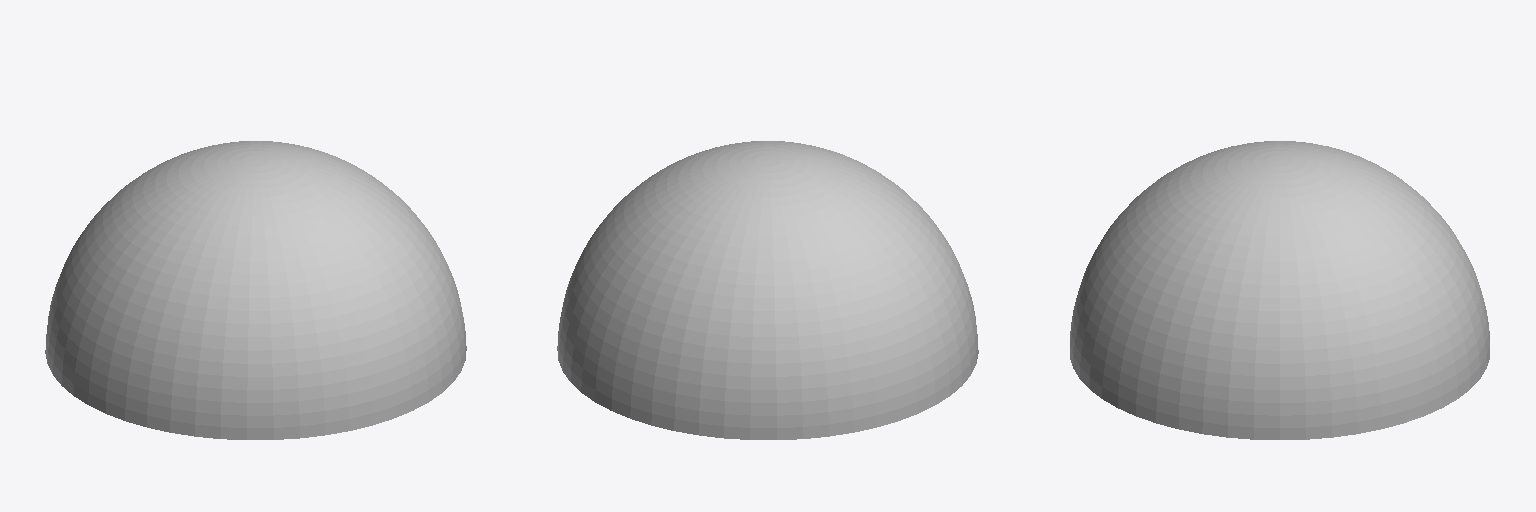
Rendered from half_sphere.obj.
3 renders of one model, left to right at view 1: azimuth 30°, elevation 25°; view 2: azimuth 150°, elevation 25°; view 3: azimuth 270°, elevation 25°, orthographic.
Parts seen in each view (by area): view 1: half_sphere_Sphere; view 2: half_sphere_Sphere; view 3: half_sphere_Sphere.
Boxes of the visible parts, x1,y1,x2,y2 form: half_sphere_Sphere: [45, 141, 466, 439]; half_sphere_Sphere: [557, 141, 978, 439]; half_sphere_Sphere: [1070, 141, 1489, 439].
Size of the model in its own units: 2 by 1 by 2.